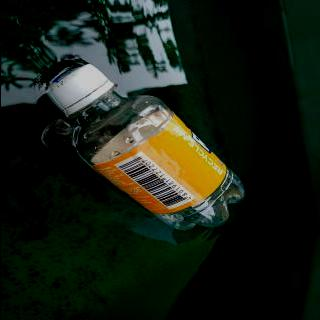bottle: (42, 63, 247, 231)
